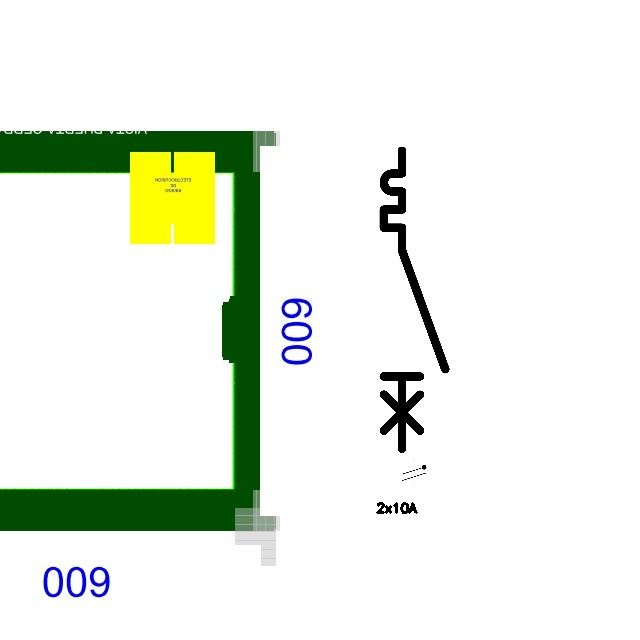interruptor_termomagnetico: (376, 143, 452, 456)
